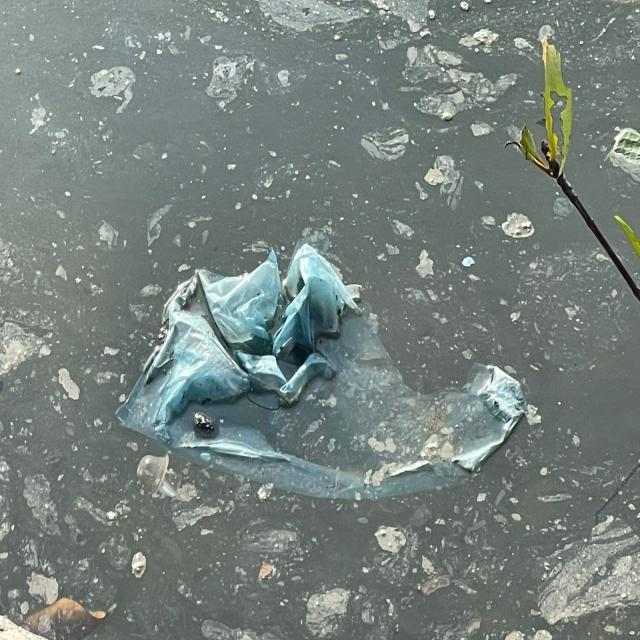Kantong Plastik: (112, 243, 534, 498)
